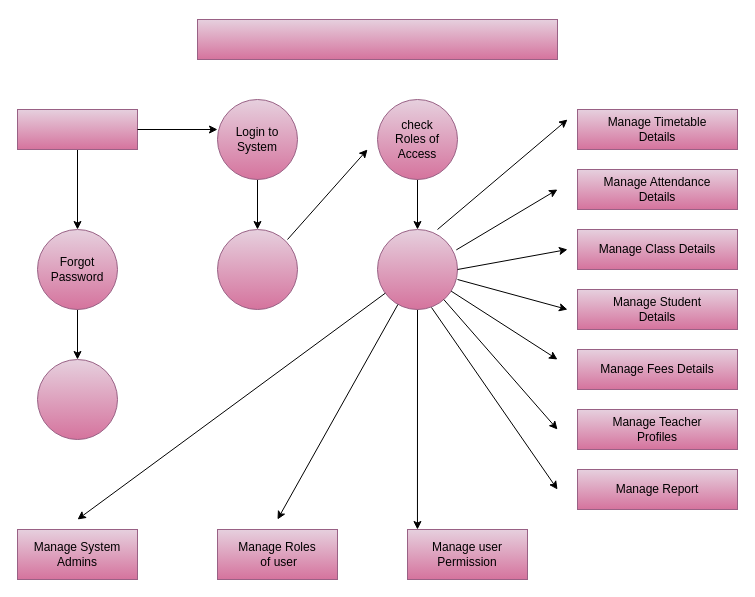
The diagram is 755 pixels wide and 597 high, and some of its shapes have lost their labels. Here are the shapes that lost their labels. From the top down, the centre of each, then its label:
At point (377, 39): "Student Information System".
At point (77, 129): "Admin".
At point (257, 269): "Checks Credentials".
At point (417, 269): "Manage Modules".
At point (77, 399): "Send Email to user".
